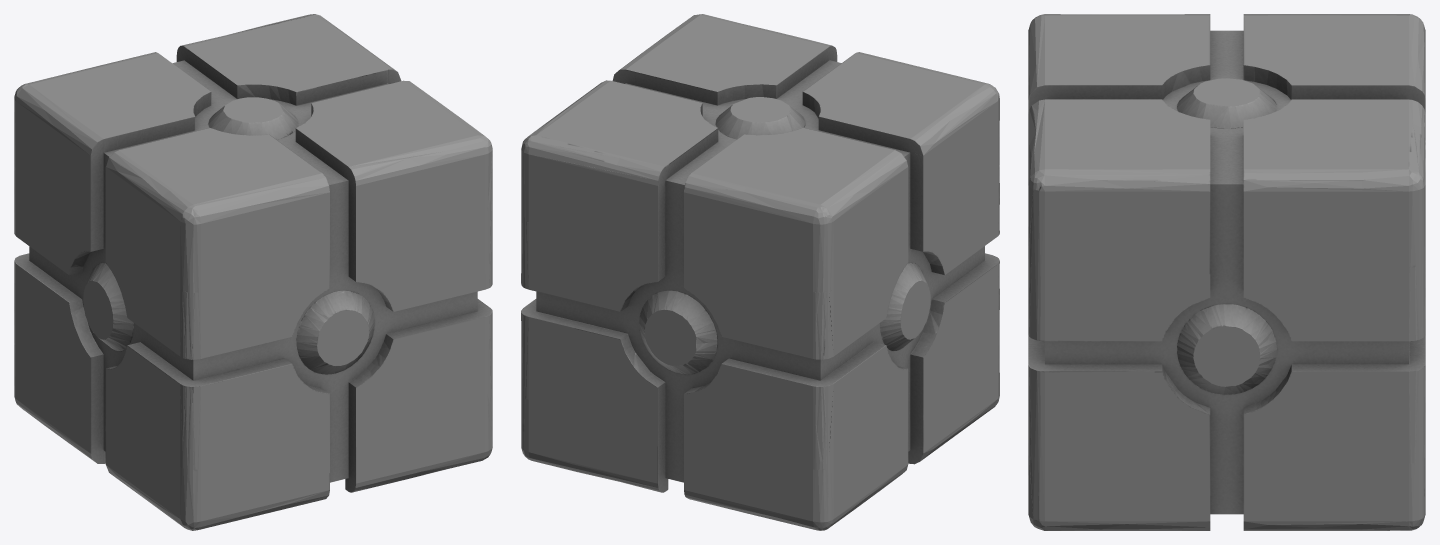
File: Crate_V2.fbx
3 views of the same model, side by side, from view 1: azimuth 30°, elevation 25°; view 2: azimuth 150°, elevation 25°; view 3: azimuth 270°, elevation 25° (orthographic). The views are drawn at different scales.
Parts seen in each view (by area): view 1: Crate; view 2: Crate; view 3: Crate.
Part boxes in pixels (x1,y1,x2,y2): Crate: [14, 14, 492, 530]; Crate: [521, 14, 999, 530]; Crate: [1028, 14, 1425, 530].
Size of the model in its own units: 1 by 1 by 1.
Materials: 1 (1 with a texture image).
